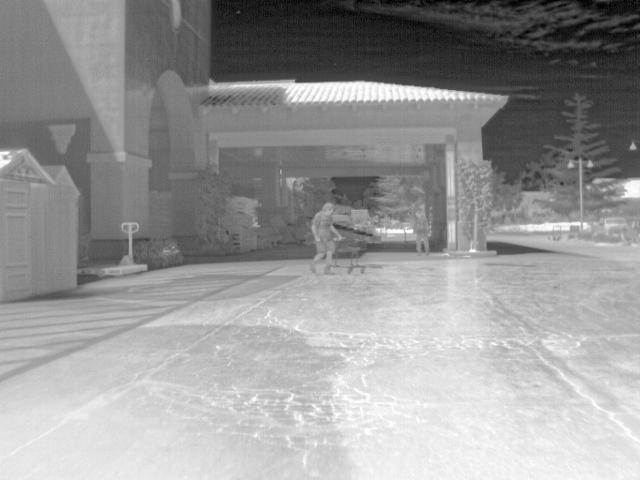car: (594, 218, 626, 238)
person: (309, 198, 338, 276), (413, 206, 429, 258)
